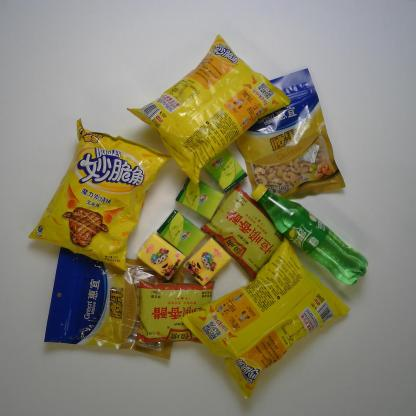Dried Fruit: (41, 244, 188, 363), (234, 65, 348, 203)
Drink: (247, 182, 370, 288)
Puffed Food: (178, 233, 352, 401), (121, 30, 295, 189), (25, 114, 174, 276)
Seasoner: (197, 181, 286, 286), (132, 278, 217, 348)
Tissue: (133, 230, 188, 283), (180, 235, 235, 288), (155, 207, 208, 259), (173, 174, 227, 222), (200, 144, 249, 196)
